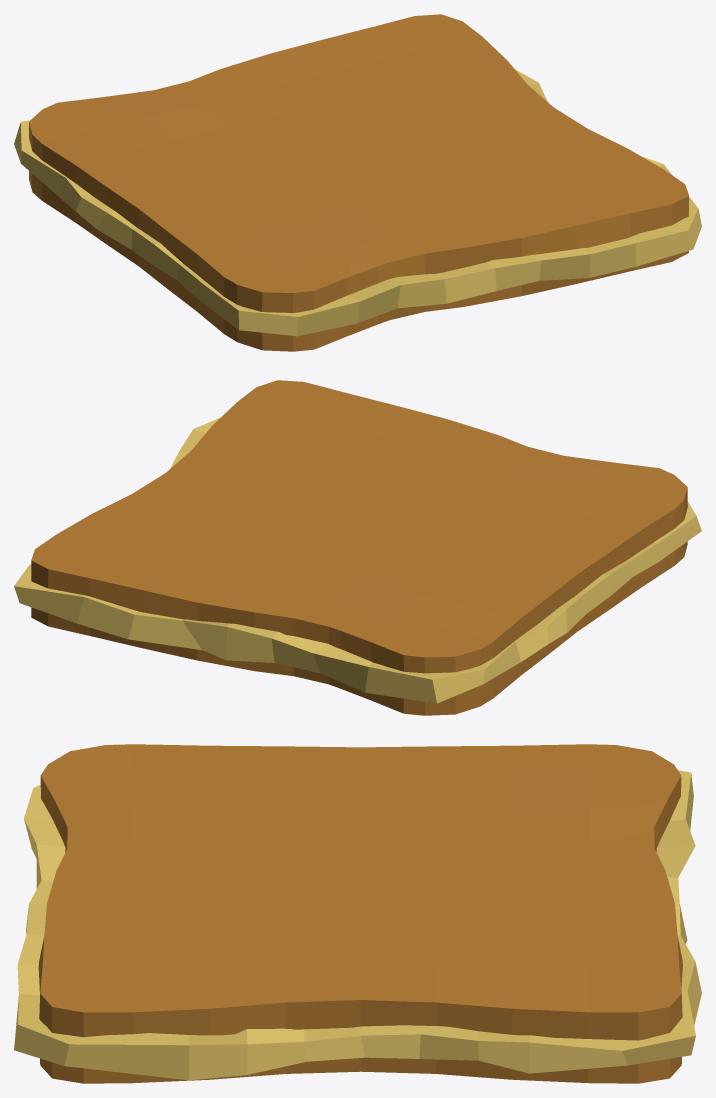
File: Tost.fbx
The picture shows the model from 3 angles, top to bottom: view 1: azimuth 30°, elevation 25°; view 2: azimuth 150°, elevation 25°; view 3: azimuth 270°, elevation 25°; orthographic projection. The views are drawn at different scales.
Parts seen in each view (by area): view 1: Kaşarlı Tost; view 2: Kaşarlı Tost; view 3: Kaşarlı Tost.
Boxes of the visible parts, box(x1,y1,x2,y2) form: Kaşarlı Tost: box(14, 14, 701, 351); Kaşarlı Tost: box(14, 380, 701, 715); Kaşarlı Tost: box(14, 744, 701, 1083).
Bounding box in the file's own units: 11.28 × 1.37 × 11.36.
